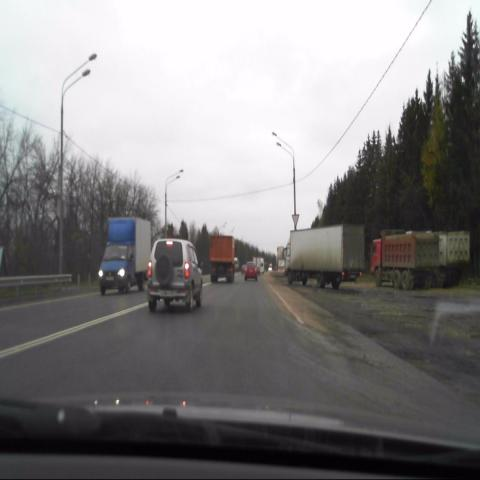2_4: (291, 214, 299, 227)
